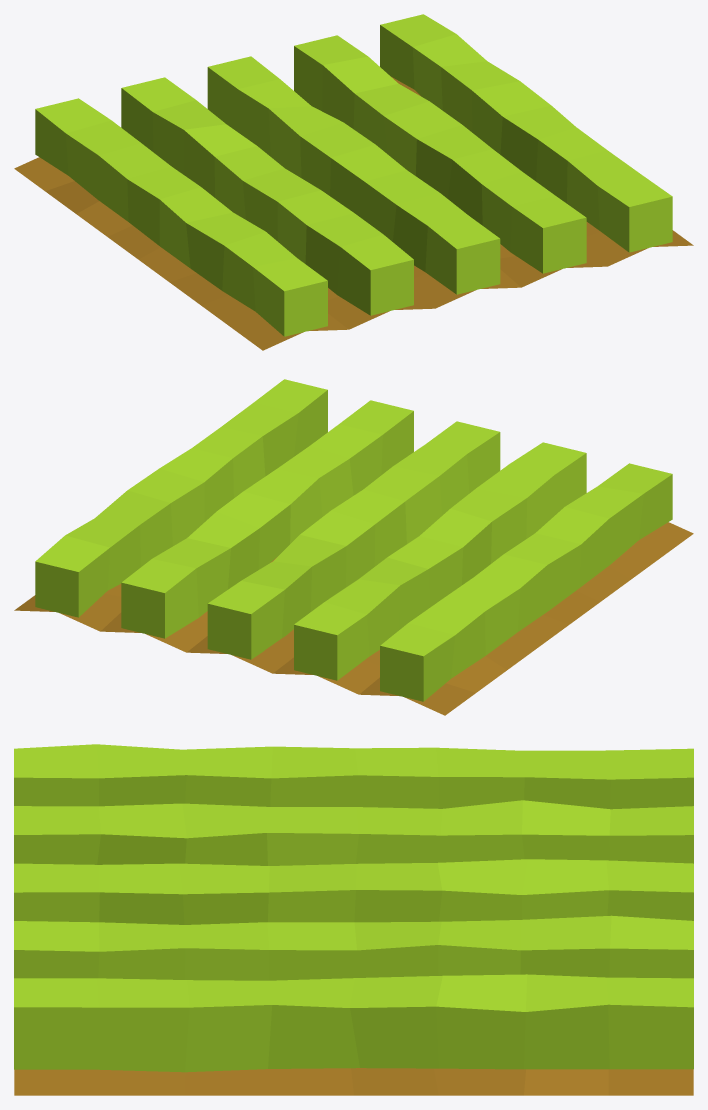
Rendered from farm.gltf.
3 views of the same model, one above another, from view 1: azimuth 30°, elevation 25°; view 2: azimuth 150°, elevation 25°; view 3: azimuth 270°, elevation 25° (orthographic). The views are drawn at different scales.
Visible parts, largest first — view 1: Plane; view 2: Plane; view 3: Plane.
Part boxes in pixels (x1,y1,x2,y2): Plane: (14, 14, 693, 350); Plane: (14, 379, 693, 715); Plane: (14, 744, 693, 1095).
Bounding box in the file's own units: 1 × 0.1296 × 1.
